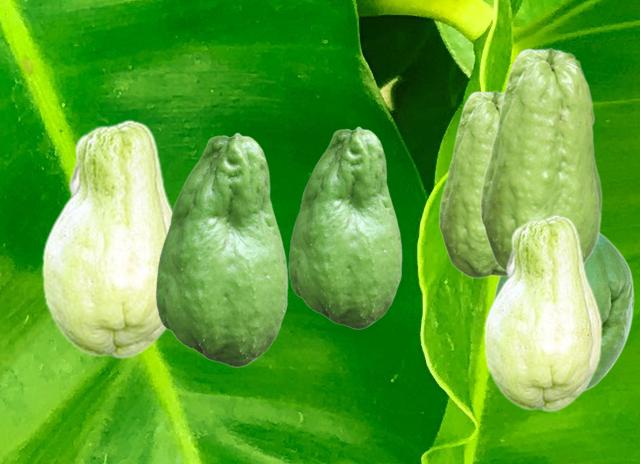sayote: (41, 119, 173, 358), (155, 132, 287, 366), (479, 47, 602, 273), (483, 214, 601, 411), (288, 126, 401, 328), (493, 233, 633, 391), (438, 90, 505, 278)
